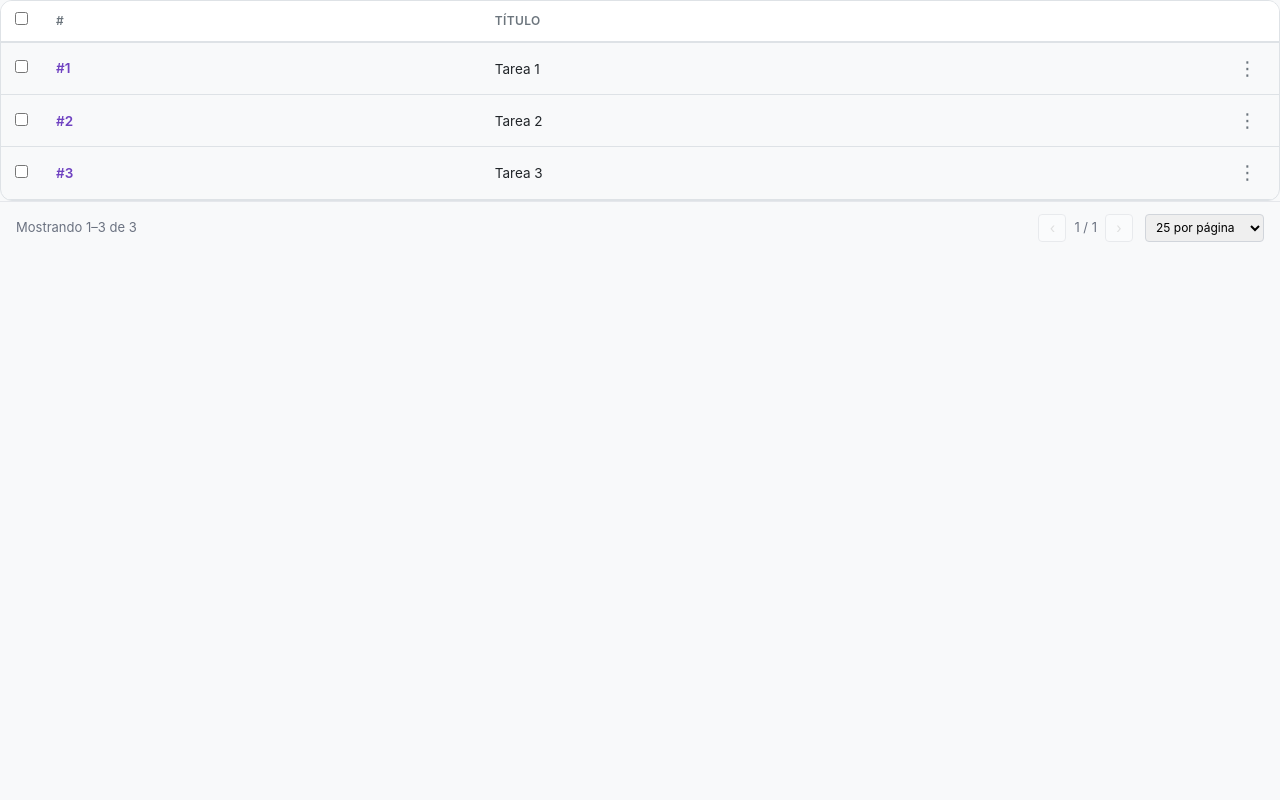
Test: TasksTableView — bulk move to IClass › all OK → toast, no result modal
Click the checkbox named "Seleccionar todos". click: [22, 18]
box: x1=15 y1=12 x2=28 y2=25
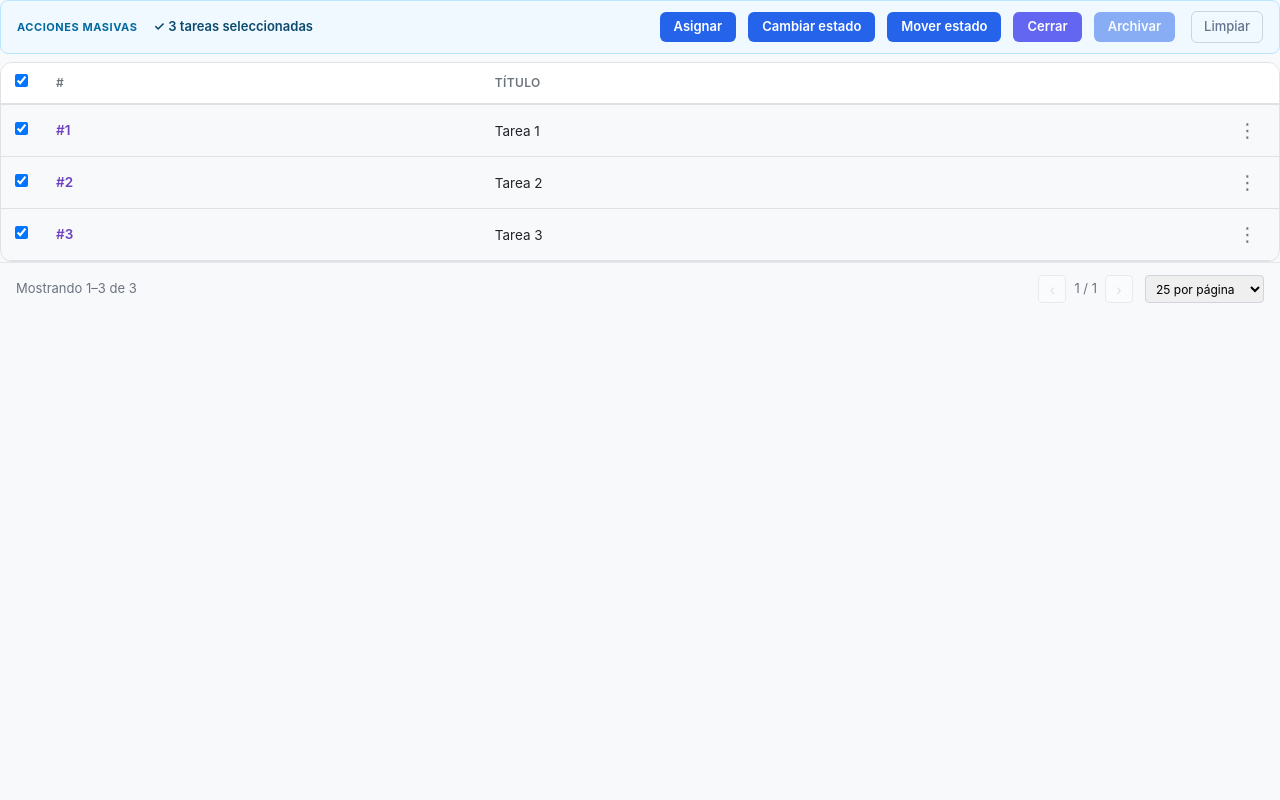
Click the button "Mover estado". click: [944, 27]
box: x1=887 y1=12 x2=1002 y2=42
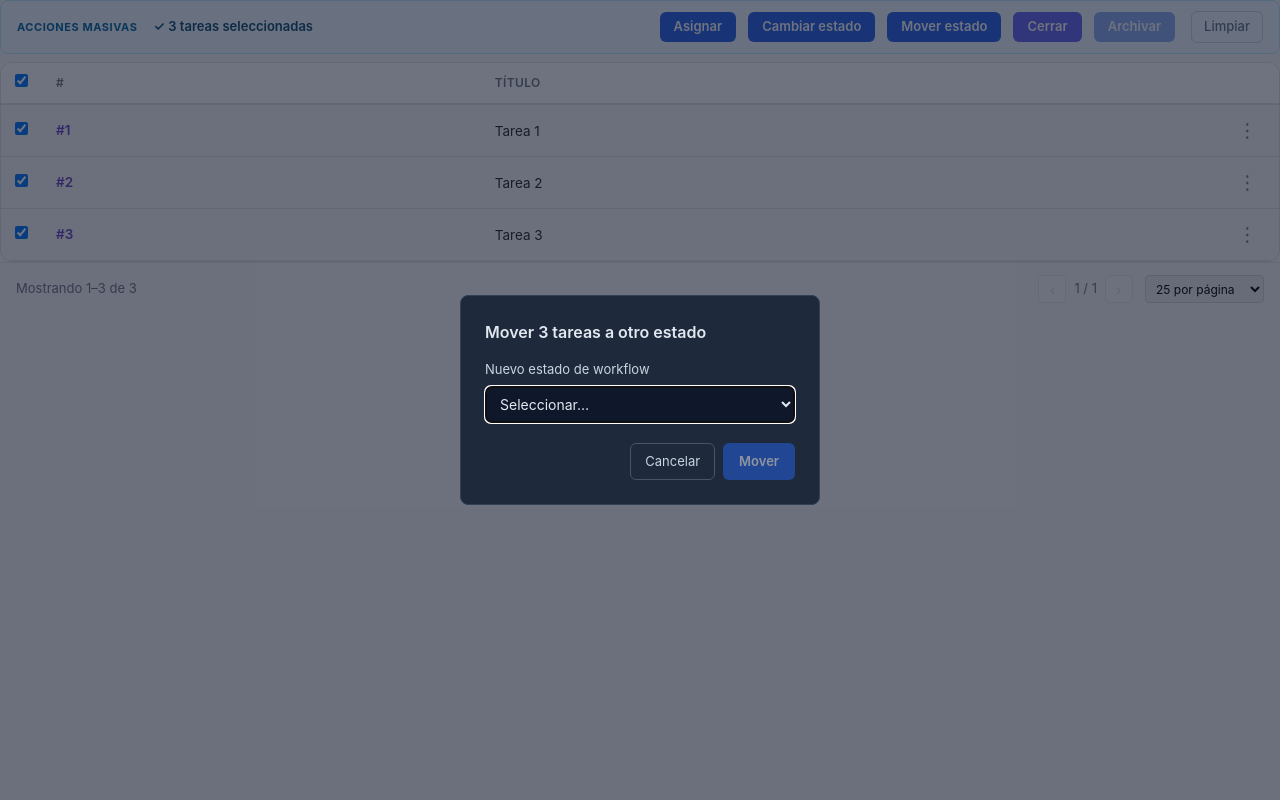
Select "Enviar a IClass" in the dropdown. click: [640, 404]
box: x1=485 y1=386 x2=795 y2=422
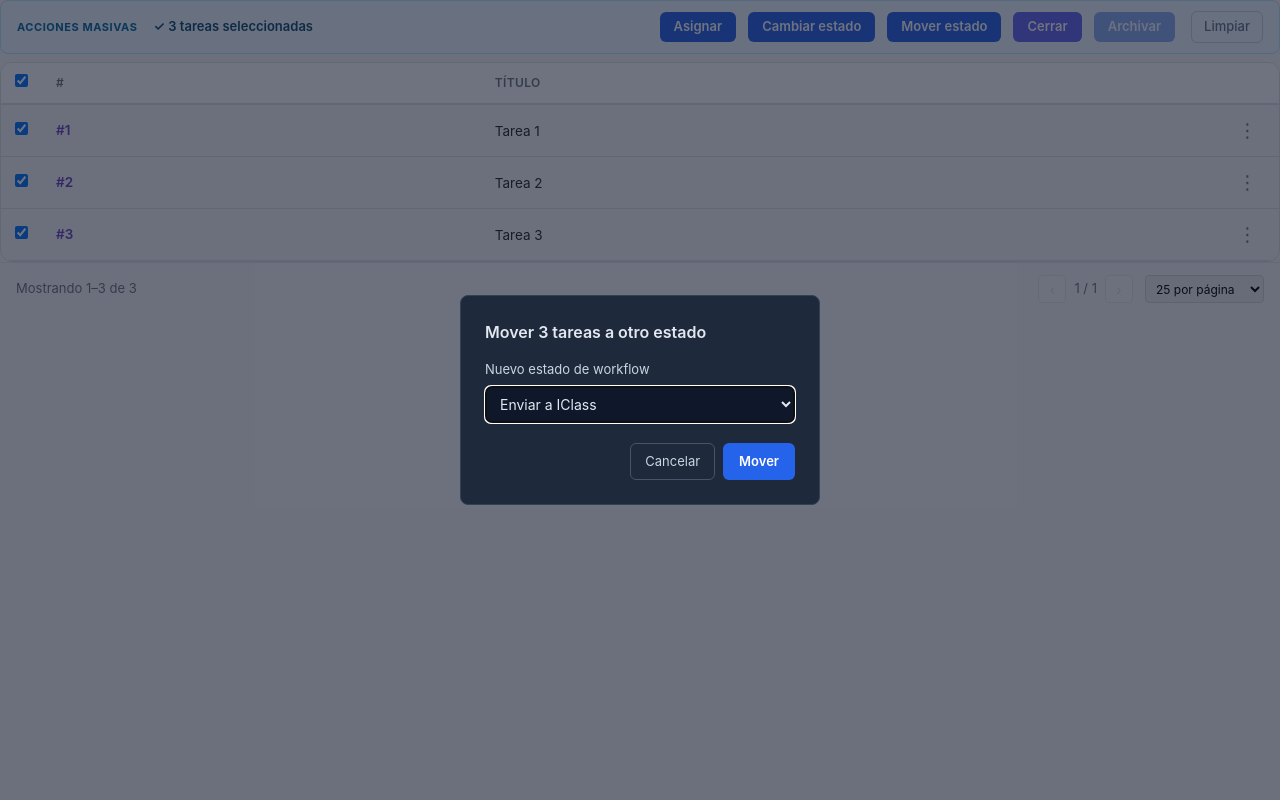
Click the button "Mover". click: [759, 461]
box: x1=723 y1=442 x2=795 y2=480
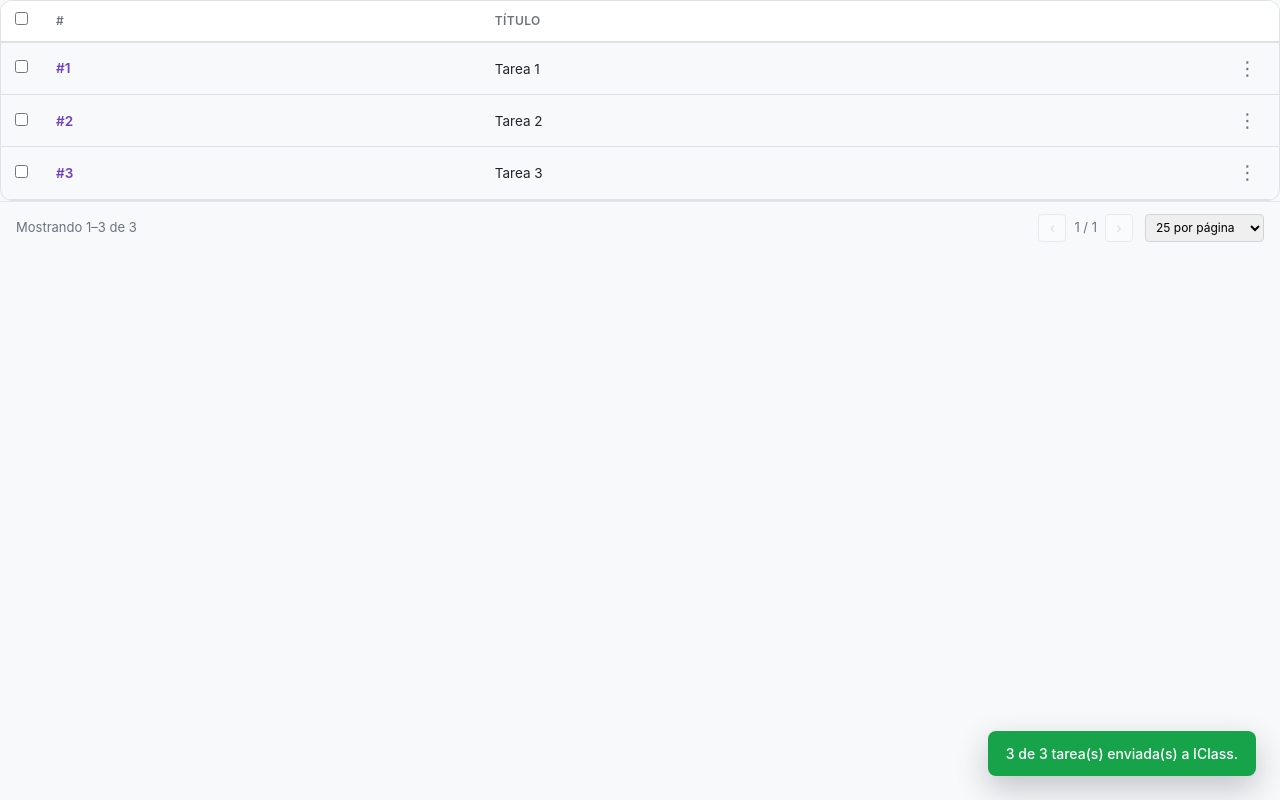
Result: the text "3 de 3 tarea(s) enviada(s) a IClass." is shown at x1=988 y1=731 x2=1256 y2=776
